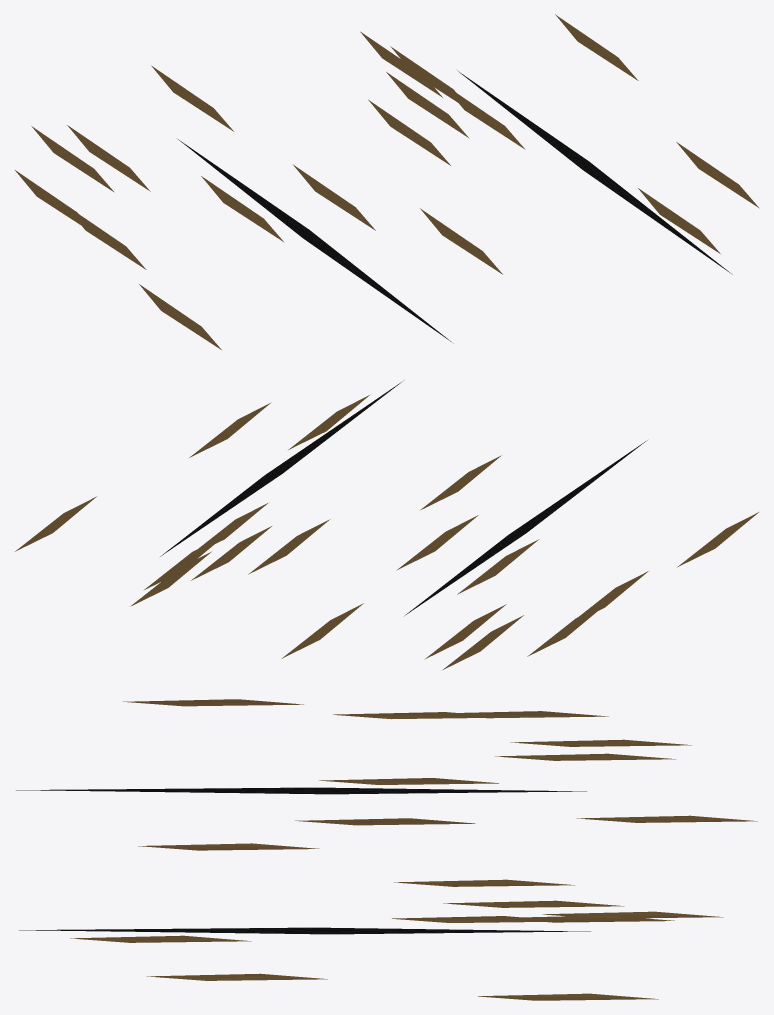
File: level_trace_floor_wear.glb
3 renders of one model, top to bottom at view 1: azimuth 30°, elevation 25°; view 2: azimuth 150°, elevation 25°; view 3: azimuth 270°, elevation 25°, orthographic. The views are drawn at different scales.
Visible parts, largest first — view 1: level_trace_floor_wear; view 2: level_trace_floor_wear; view 3: level_trace_floor_wear.
Boxes of the visible parts, bbox=[...] form: level_trace_floor_wear: bbox=[15, 14, 759, 349]; level_trace_floor_wear: bbox=[15, 381, 758, 669]; level_trace_floor_wear: bbox=[16, 699, 757, 1000].
Size of the model in its own units: 0.926 by 0.002 by 0.9679.
Materials: 2 (2 with a texture image).
